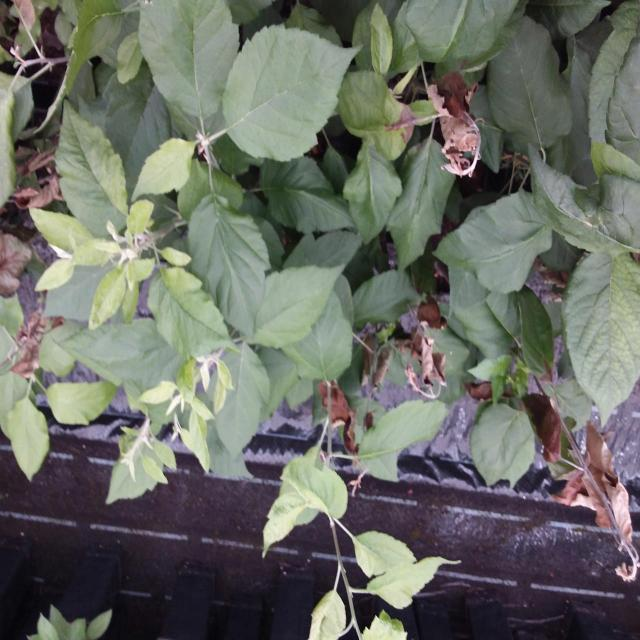-FireBlight-: (524, 396, 640, 584), (358, 297, 456, 393), (392, 74, 484, 176), (10, 144, 67, 208), (316, 383, 359, 451), (14, 312, 44, 378)
